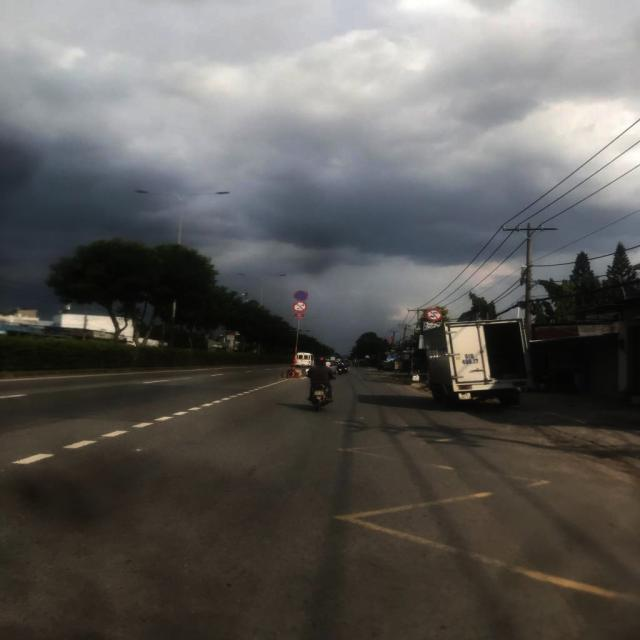107-cam-oto-khach-va-oto-tai: (425, 308, 442, 322)
